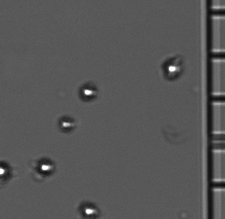Living Cell: (161, 54, 184, 81), (34, 156, 56, 177), (79, 82, 100, 102), (81, 198, 101, 217), (57, 115, 78, 133), (1, 159, 9, 184)
